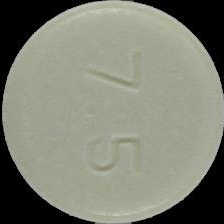21695-076: (0, 0, 224, 224)
